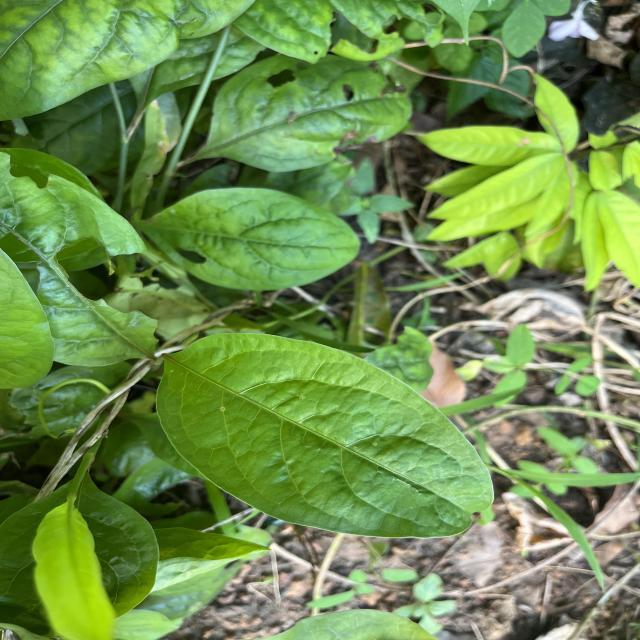Plumbago indica: (151, 326, 502, 542), (136, 183, 368, 294)
